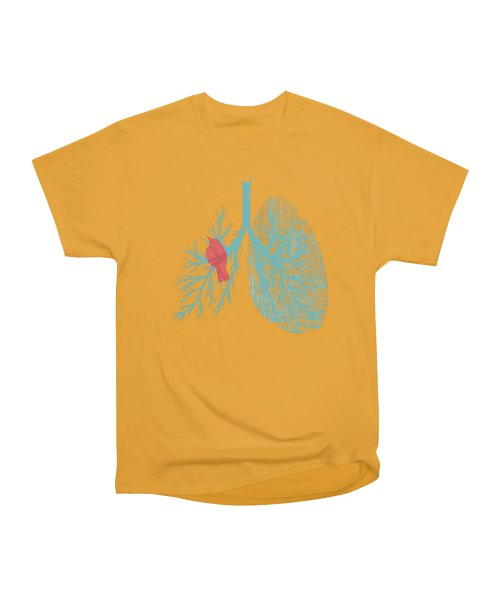design: (167, 175, 332, 340)
